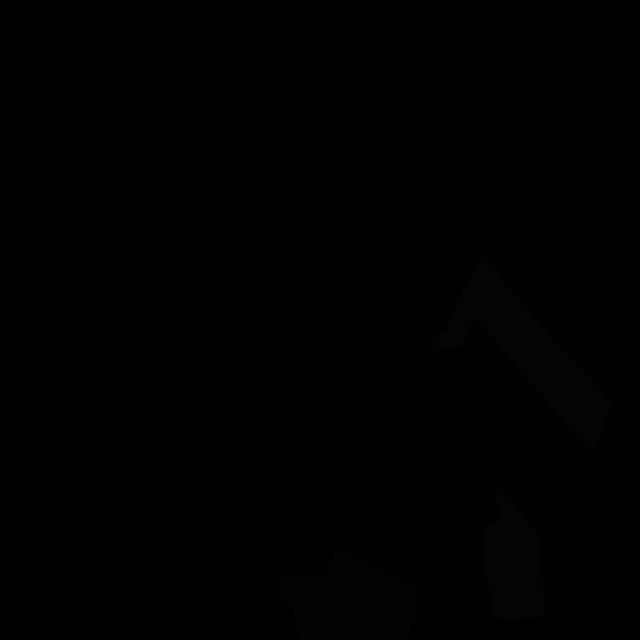cardboard: (277, 549, 418, 640)
soft_plastic: (473, 269, 611, 451), (482, 487, 544, 619), (432, 256, 491, 351)
